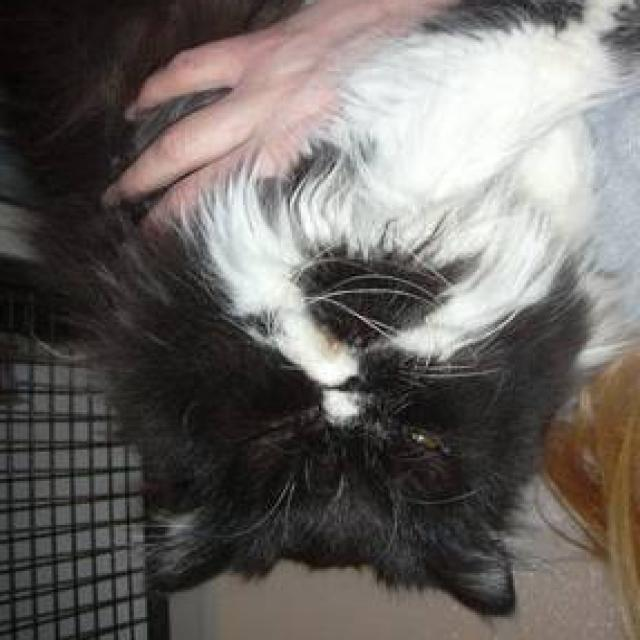Kucing: (19, 24, 588, 636)
